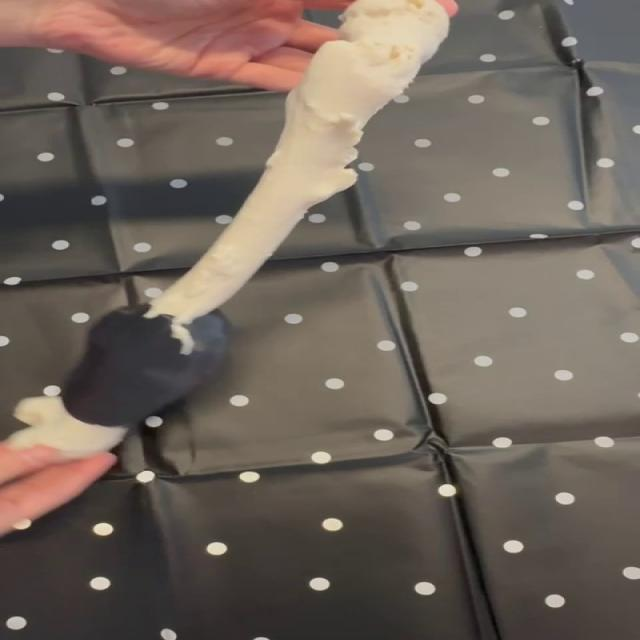bones: (10, 0, 449, 458)
